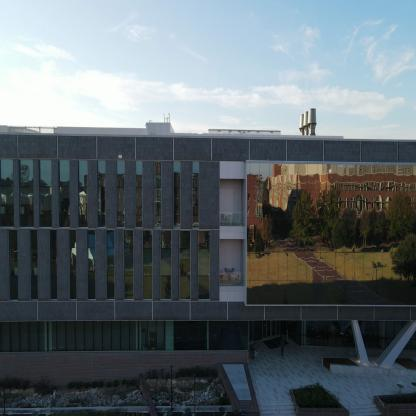Fitts- Woolard: (2, 102, 416, 407)
